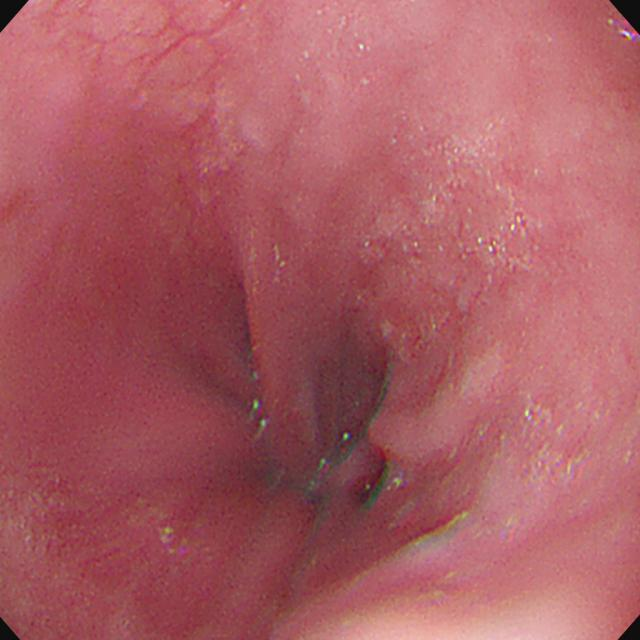U: (158, 523, 193, 562), (244, 395, 272, 440), (605, 18, 640, 45)
